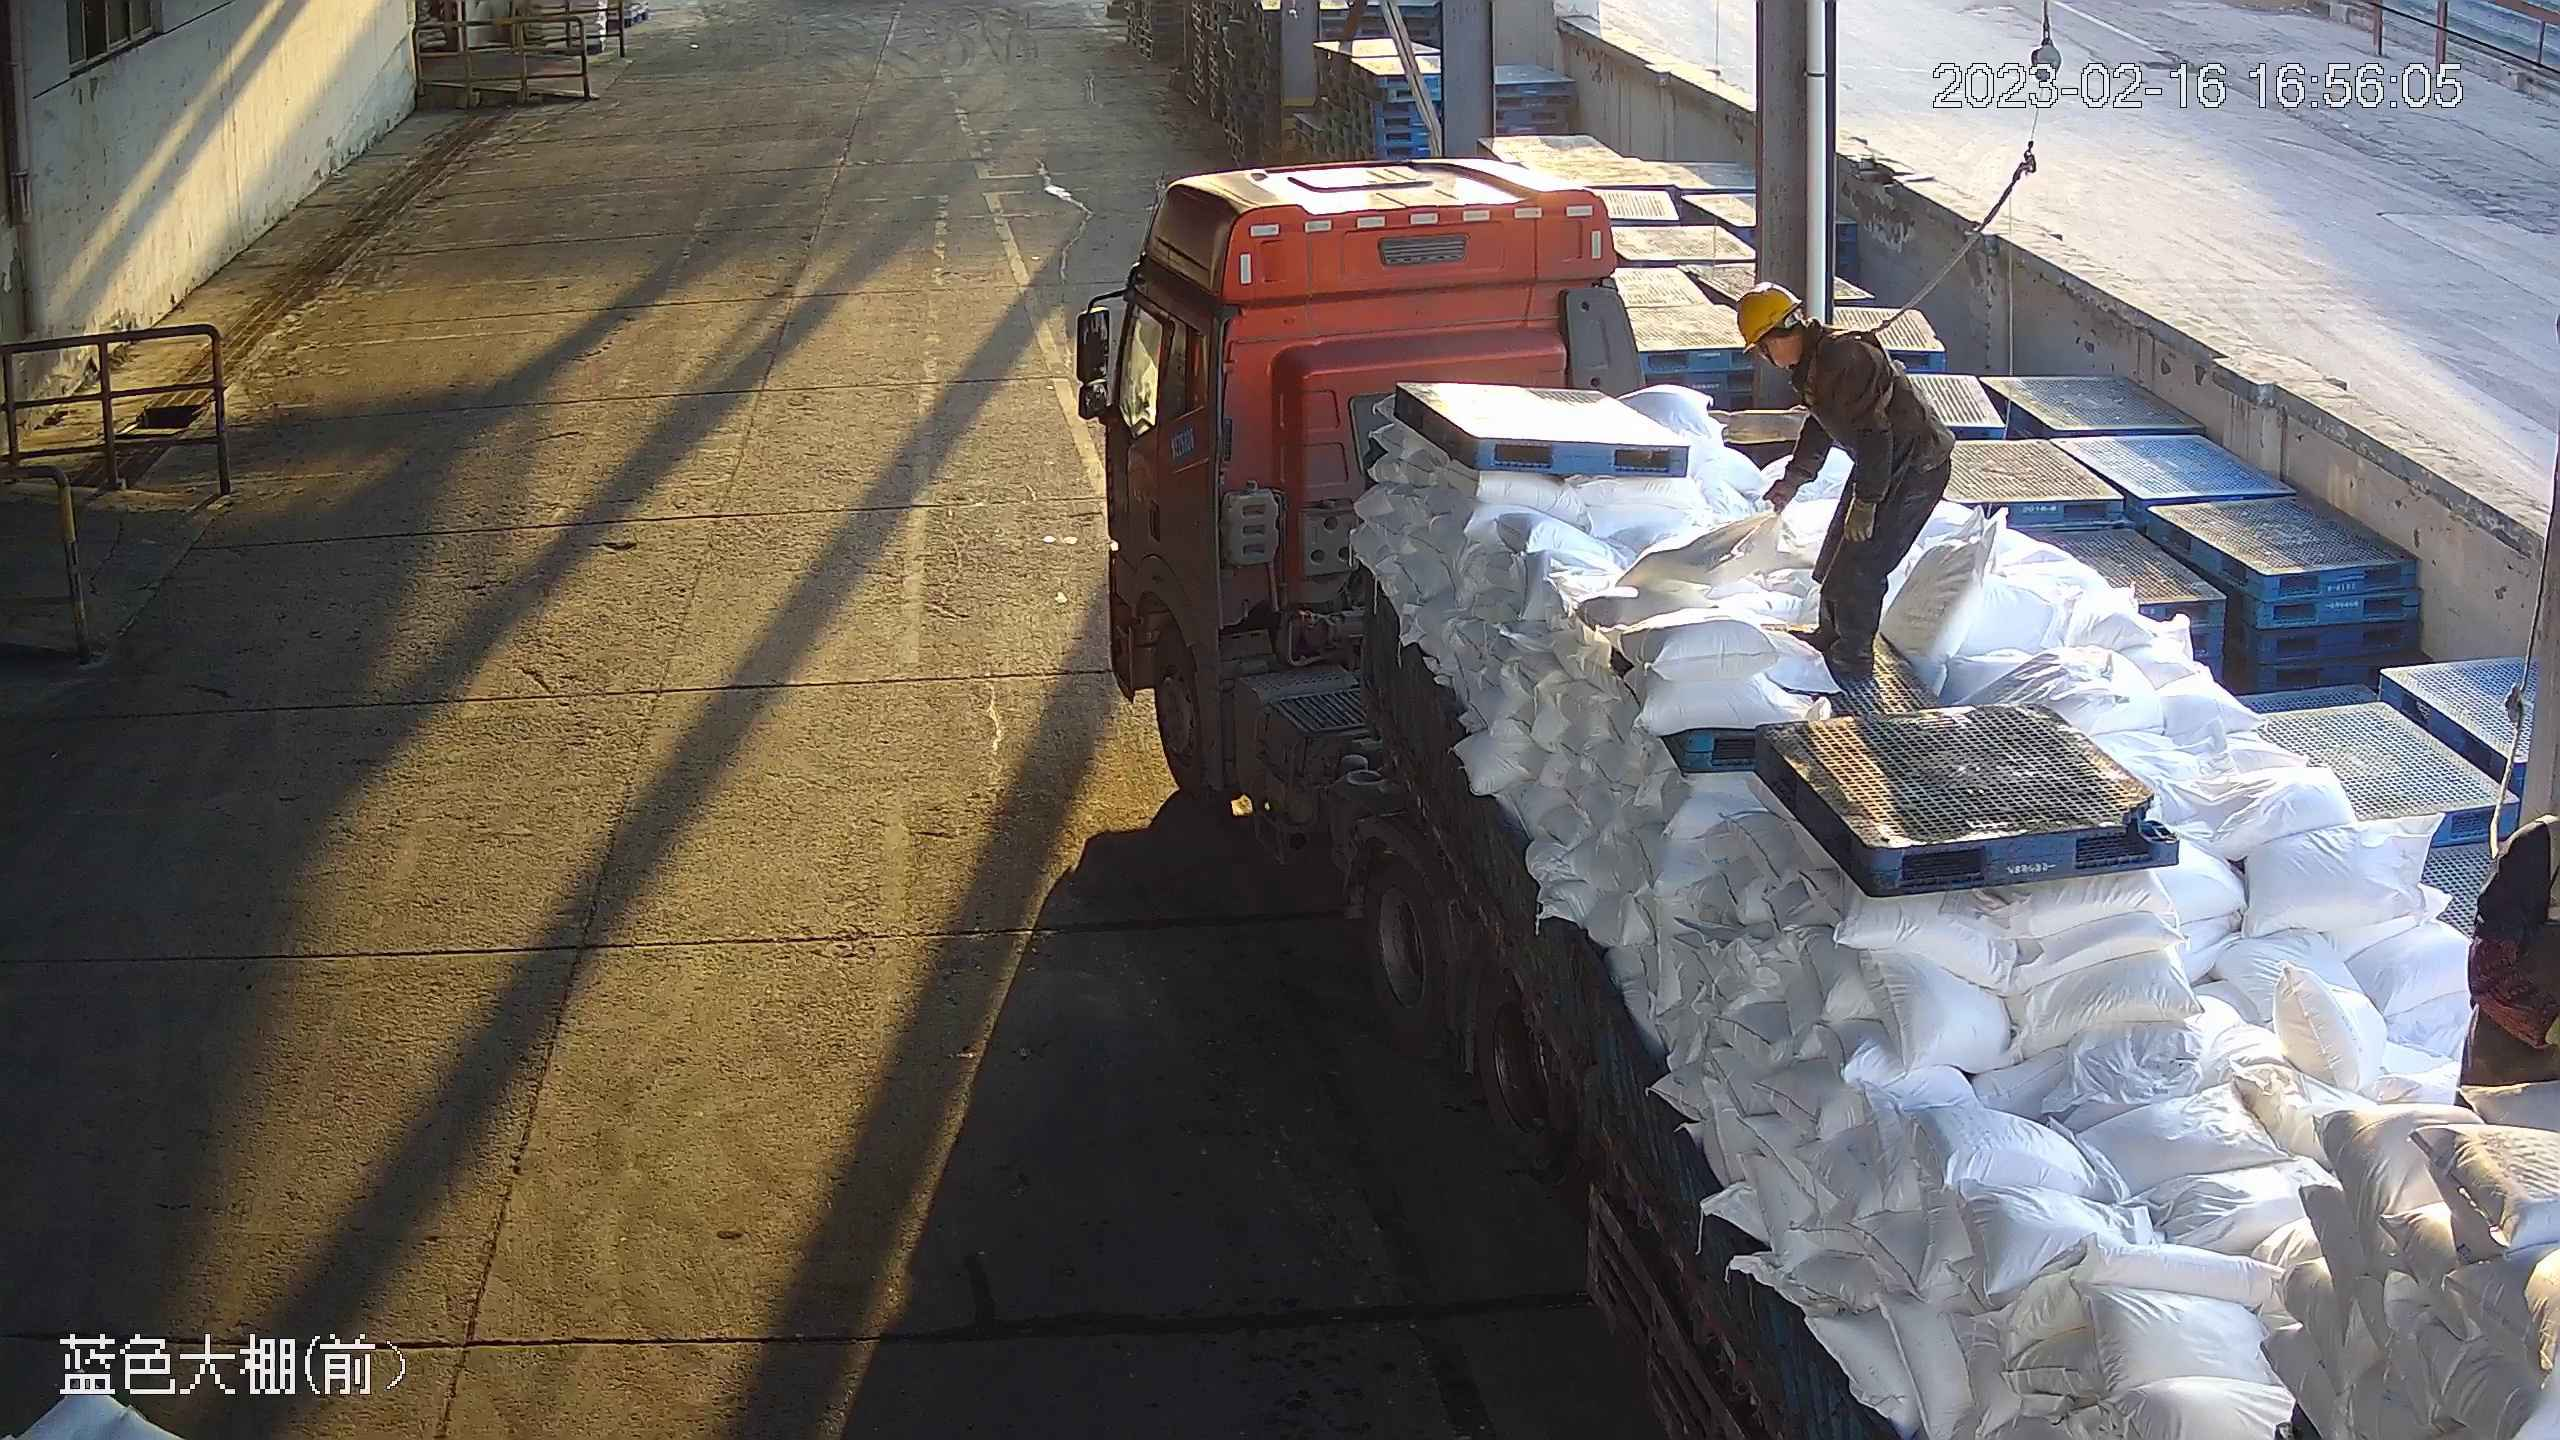belt: (1803, 321, 1888, 395)
head: (1731, 286, 1885, 406)
helmet: (1727, 288, 1794, 356)
people: (1731, 286, 1955, 729)
truck: (1072, 164, 2560, 1440)
